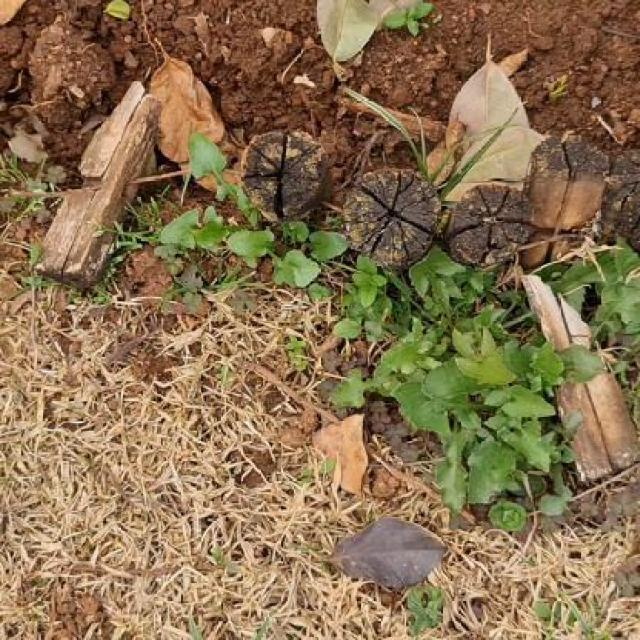weed: (332, 248, 598, 530), (158, 211, 349, 301), (542, 246, 640, 353)
